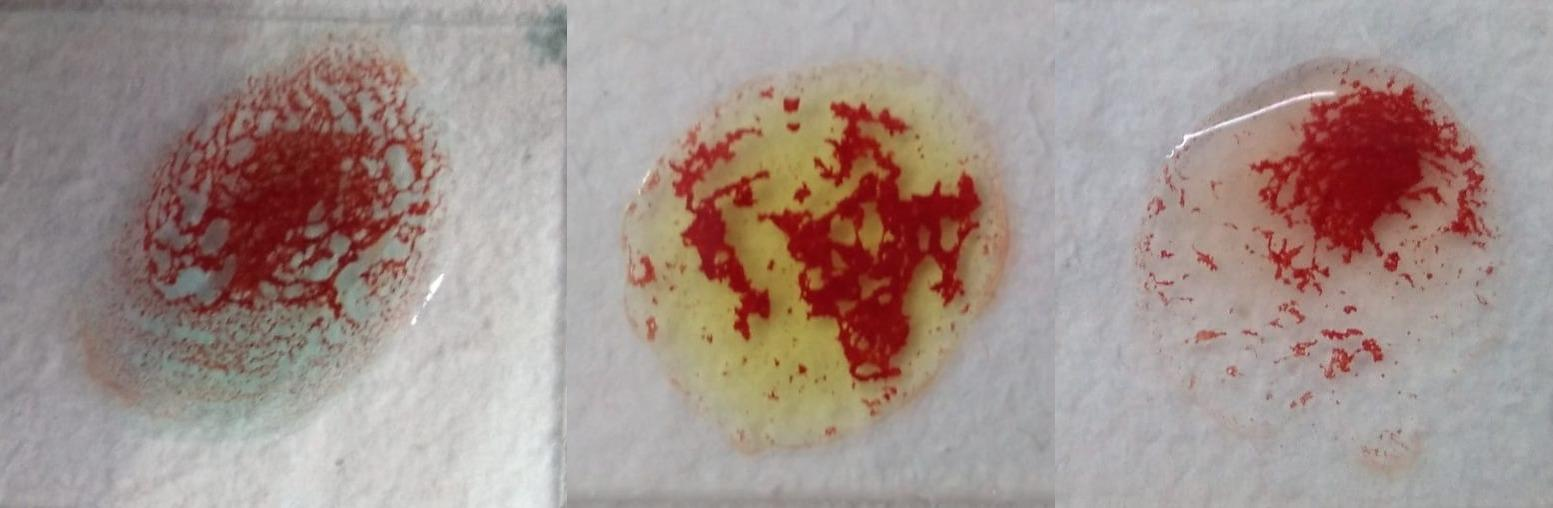A: (100, 34, 443, 414)
B: (623, 73, 981, 426)
D: (1161, 53, 1489, 429)
